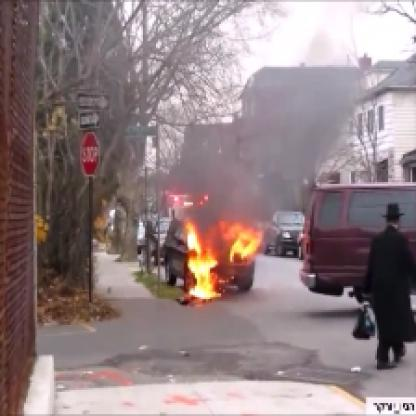Fire: (182, 184, 258, 301)
